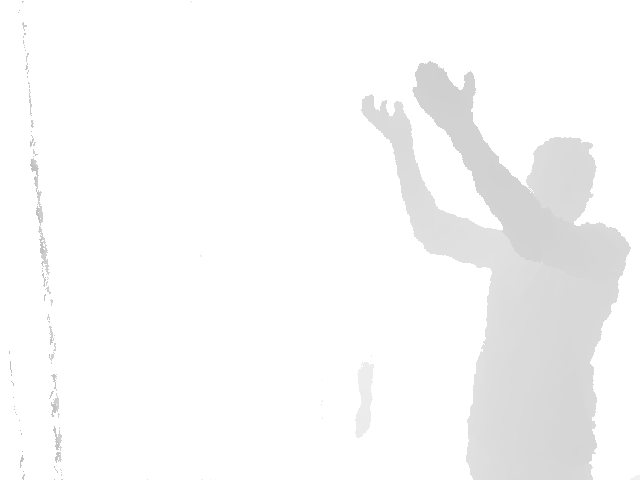hand: (412, 60, 476, 123), (361, 94, 414, 137)
head: (524, 136, 597, 226)
person: (361, 61, 633, 479)
